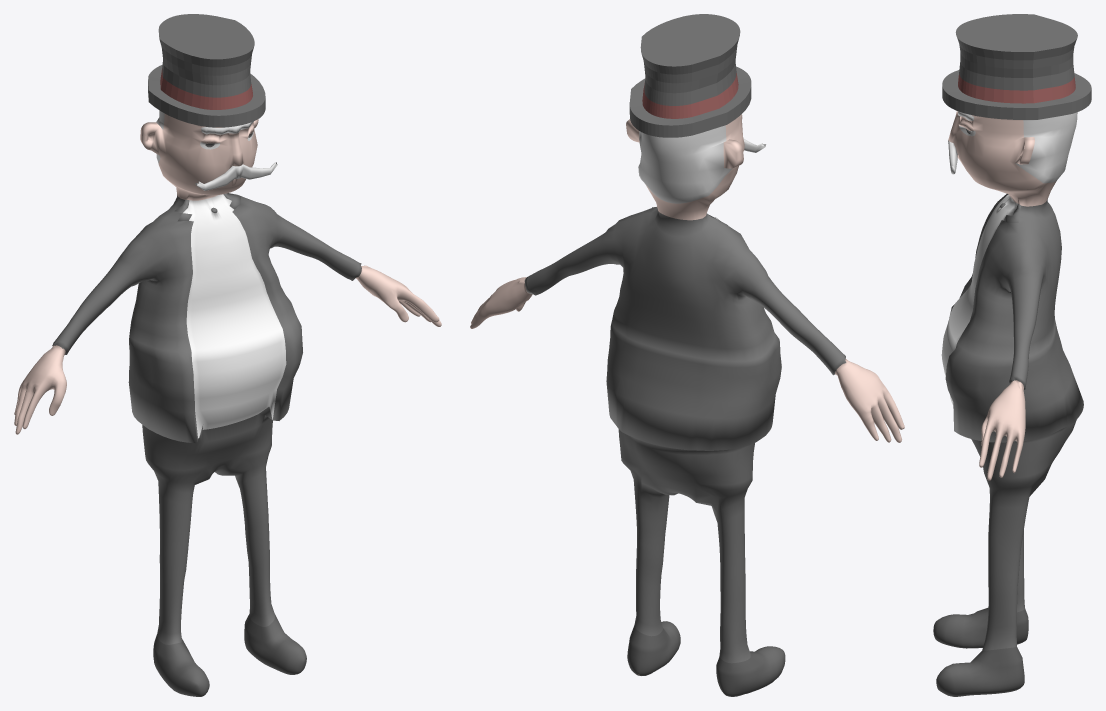
File: smooth_bey.fbx
3 renders of one model, left to right at view 1: azimuth 30°, elevation 25°; view 2: azimuth 150°, elevation 25°; view 3: azimuth 270°, elevation 25°, orthographic. The views are drawn at different scales.
Parts seen in each view (by area): view 1: stickman; view 2: stickman; view 3: stickman.
Part boxes in pixels (box(x1,y1,x2,y2)): stickman: box(14, 14, 441, 696); stickman: box(470, 14, 904, 696); stickman: box(933, 14, 1091, 696).
Size of the model in its own units: 116 by 167 by 37.64.
